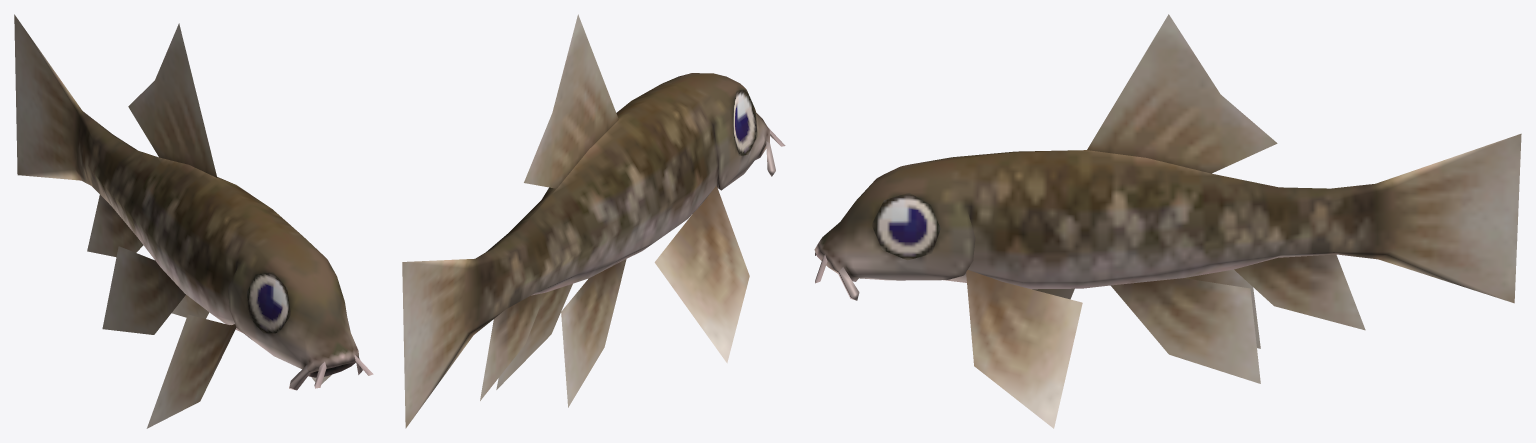
The model's file is FishDokutaafish.glb.
3 renders of one model, left to right at view 1: azimuth 30°, elevation 25°; view 2: azimuth 150°, elevation 25°; view 3: azimuth 270°, elevation 25°, orthographic. The views are drawn at different scales.
Visible parts, largest first — view 1: FishDokutaafish__mDokutaafish; view 2: FishDokutaafish__mDokutaafish; view 3: FishDokutaafish__mDokutaafish.
Boxes of the visible parts, x1,y1,x2,y2 form: FishDokutaafish__mDokutaafish: (14, 14, 373, 428); FishDokutaafish__mDokutaafish: (402, 14, 785, 428); FishDokutaafish__mDokutaafish: (814, 14, 1521, 428).
Size of the model in its own units: 0.9802 by 1.88 by 3.26.
1 material, 1 textured.
